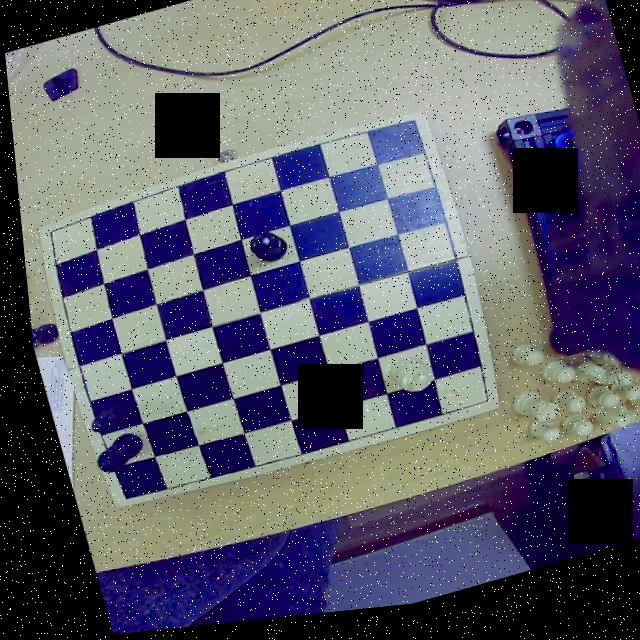chess-table-corners: (394, 119, 424, 146), (464, 394, 491, 421), (102, 486, 134, 508), (33, 224, 60, 248)
